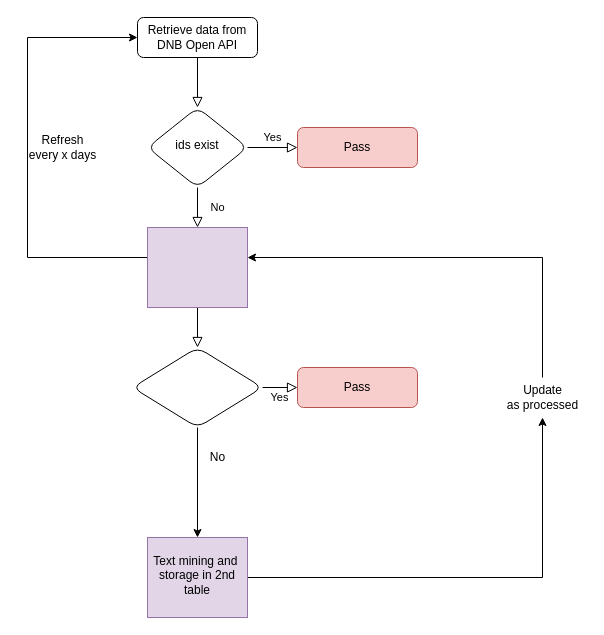
This 604x635 diagram has some shape labels left out. Each missing label, with the centre of its shape:
"add en entry in the MongoDB table" goes at pixel 197 267.
"PDF downloaded and process" goes at pixel 197 387.
